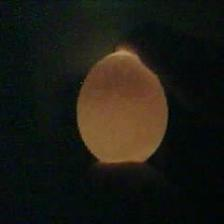infertile: (76, 50, 169, 171)
